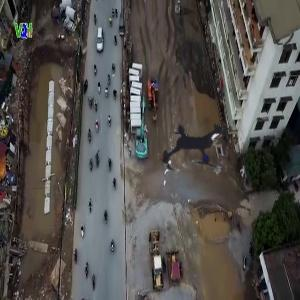drone: (137, 89, 259, 211)
